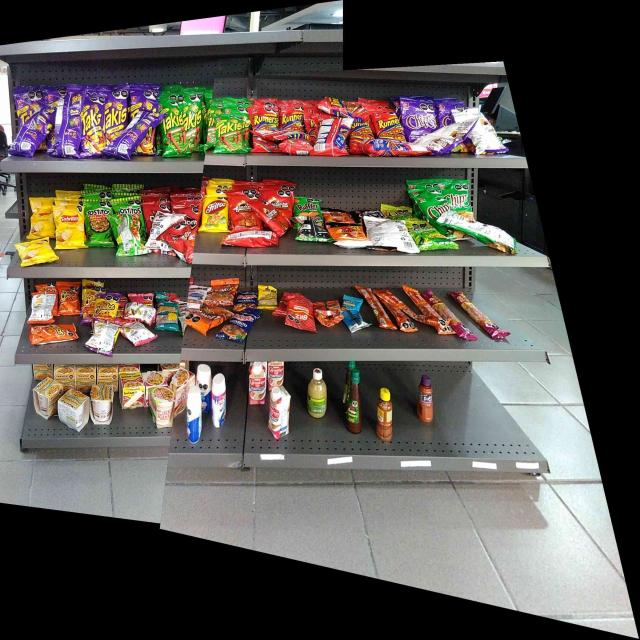bitzAlmendras: (345, 310, 369, 332)
bitzEnchilado90: (286, 297, 313, 331)
bitzEnchilado95: (371, 305, 397, 329), (414, 313, 443, 329), (375, 288, 403, 304), (406, 285, 424, 308)
bitzHabanero: (475, 312, 512, 343), (449, 288, 481, 310), (426, 287, 446, 308)
bokadosCacahuates: (228, 310, 256, 343), (236, 291, 256, 309)
botaneraChilito: (376, 388, 396, 442)
cheetosFlaminHot: (97, 294, 117, 322), (83, 291, 94, 322)
cheetosOriginal: (29, 326, 80, 342), (58, 284, 80, 316)
chipsFuego: (407, 99, 435, 130)
chipsJalapeno: (451, 188, 474, 214), (417, 195, 449, 212)
chipsPapatinas: (412, 226, 444, 252)
delPrimoSalsa: (308, 368, 328, 420)
doritosNacho: (182, 210, 198, 230)
fritosLimon: (202, 198, 227, 232)
hotNutsOriginal: (332, 222, 363, 246)
leoMix: (189, 309, 226, 333), (208, 277, 234, 306)
maruchanPollo: (58, 389, 89, 432), (30, 378, 56, 421), (91, 385, 115, 425)
maruchanRes: (120, 374, 143, 409)
nestleCarnation: (270, 389, 290, 439), (248, 362, 265, 406), (269, 361, 283, 384)
nestleLechera: (185, 386, 202, 445), (213, 375, 227, 428)
nissinCamaron: (148, 389, 173, 427)
productoAtras: (462, 219, 517, 256), (472, 109, 505, 154), (366, 216, 404, 253), (59, 94, 79, 158), (113, 218, 142, 257), (320, 119, 349, 156), (437, 120, 468, 154), (16, 124, 45, 157), (89, 323, 118, 355), (223, 233, 279, 249), (30, 291, 56, 323), (365, 142, 421, 156), (150, 213, 170, 252), (121, 326, 155, 346), (129, 112, 158, 134), (126, 302, 156, 323), (297, 218, 323, 241), (315, 301, 339, 325), (261, 130, 310, 141)
rancheritos: (229, 194, 255, 228), (266, 188, 292, 209), (260, 210, 284, 229)
rufflesQueso: (294, 197, 320, 214)
runners: (370, 109, 404, 141), (324, 97, 366, 116), (250, 104, 279, 130), (283, 105, 303, 129)
sabritasOriginal: (54, 206, 84, 249), (18, 240, 53, 265), (30, 198, 53, 235)
salsaBufalo: (345, 372, 363, 434)
semillasCalabaza: (260, 282, 275, 306)
semillasGirasol: (158, 302, 179, 333)
tajinDulce: (418, 378, 435, 423)
takisFuego: (82, 98, 102, 156), (107, 91, 126, 131), (15, 92, 39, 118)
takisOriginal: (162, 96, 182, 158), (214, 116, 245, 156), (185, 94, 203, 152)
tostitos: (88, 207, 107, 248), (113, 196, 143, 216)
